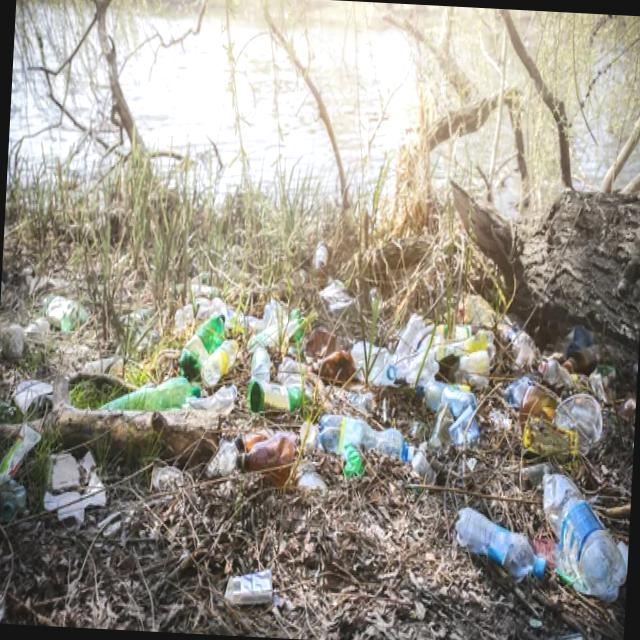garbage: (165, 192, 628, 568)
